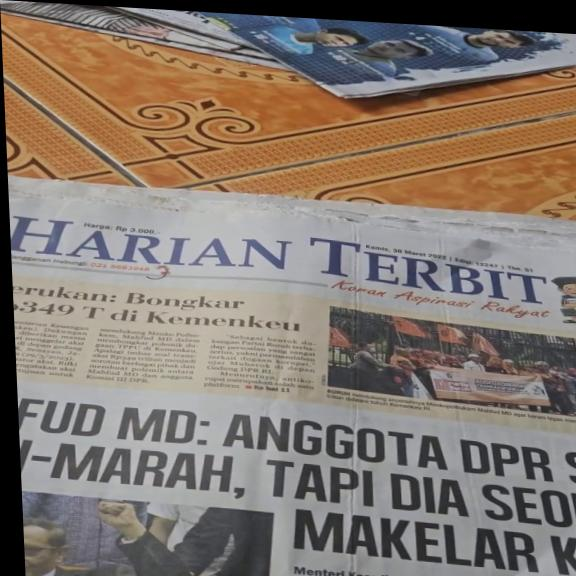Kertas: (16, 185, 576, 576)
